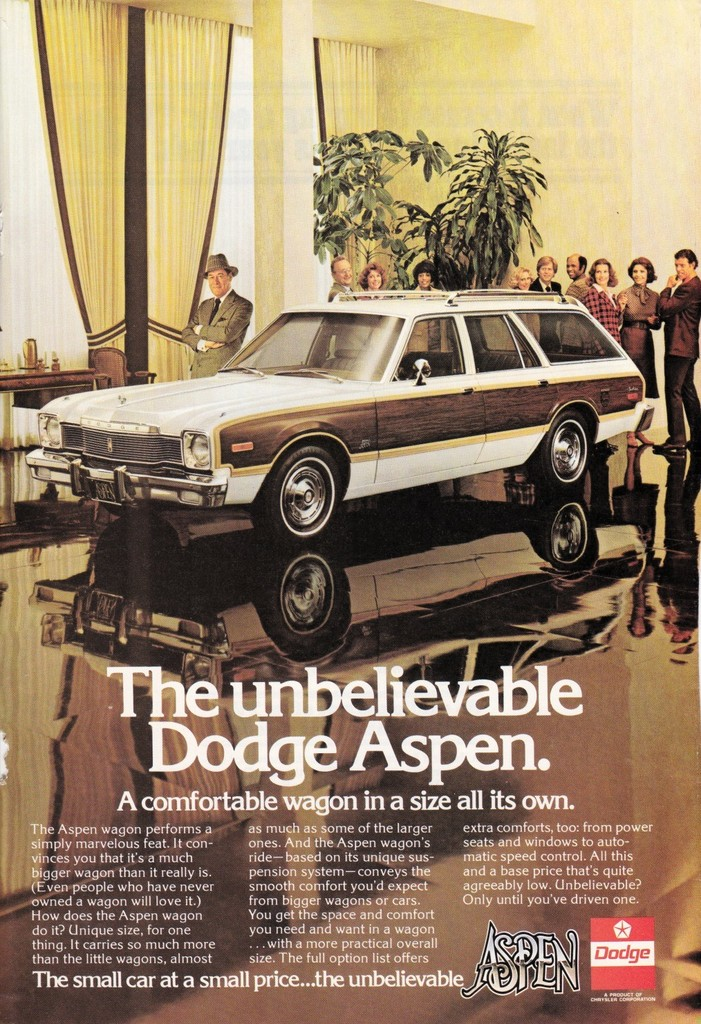cars: (24, 289, 655, 552)
